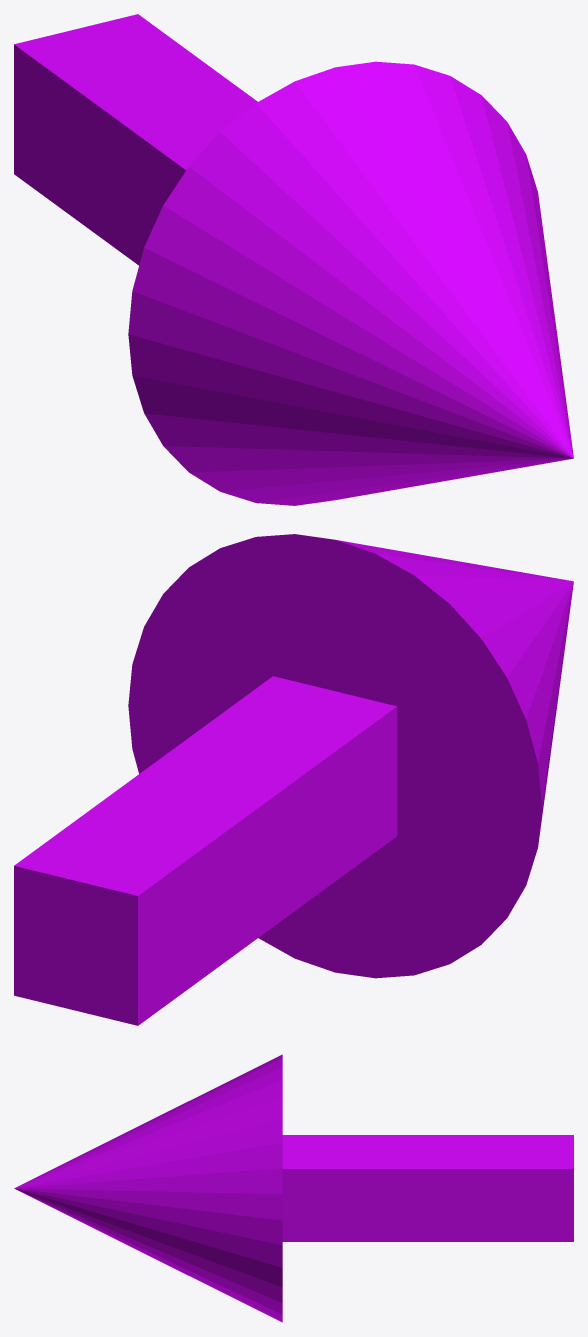
The model's file is arrow.glb.
The picture shows the model from 3 angles, top to bottom: view 1: azimuth 30°, elevation 25°; view 2: azimuth 150°, elevation 25°; view 3: azimuth 270°, elevation 25°; orthographic projection. The views are drawn at different scales.
Parts seen in each view (by area): view 1: Cone, Cube; view 2: Cone, Cube; view 3: Cone, Cube.
Part boxes in pixels (x1,y1,x2,y2): Cone: (128, 61, 573, 505); Cube: (14, 14, 257, 265); Cone: (128, 534, 573, 978); Cube: (14, 676, 397, 1025); Cone: (14, 1054, 282, 1322); Cube: (282, 1135, 573, 1241).
Size of the model in its own units: 2 by 2 by 4.17.
